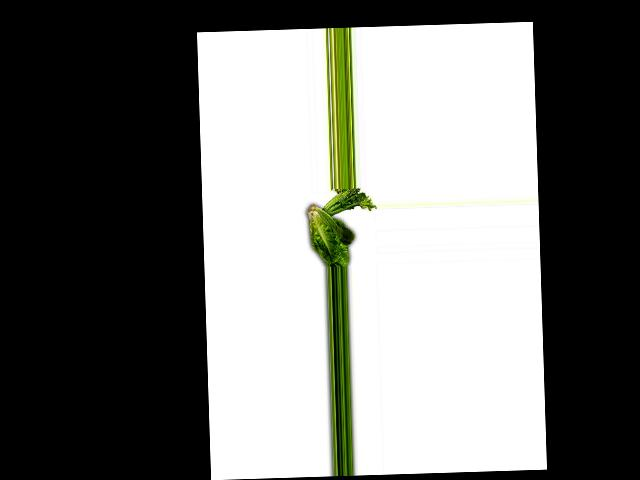lettuce: (309, 200, 360, 268)
